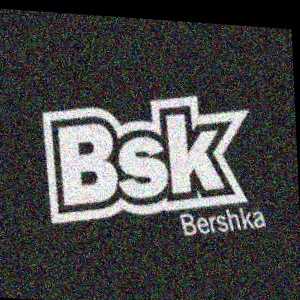bershka: (255, 56, 289, 116)
